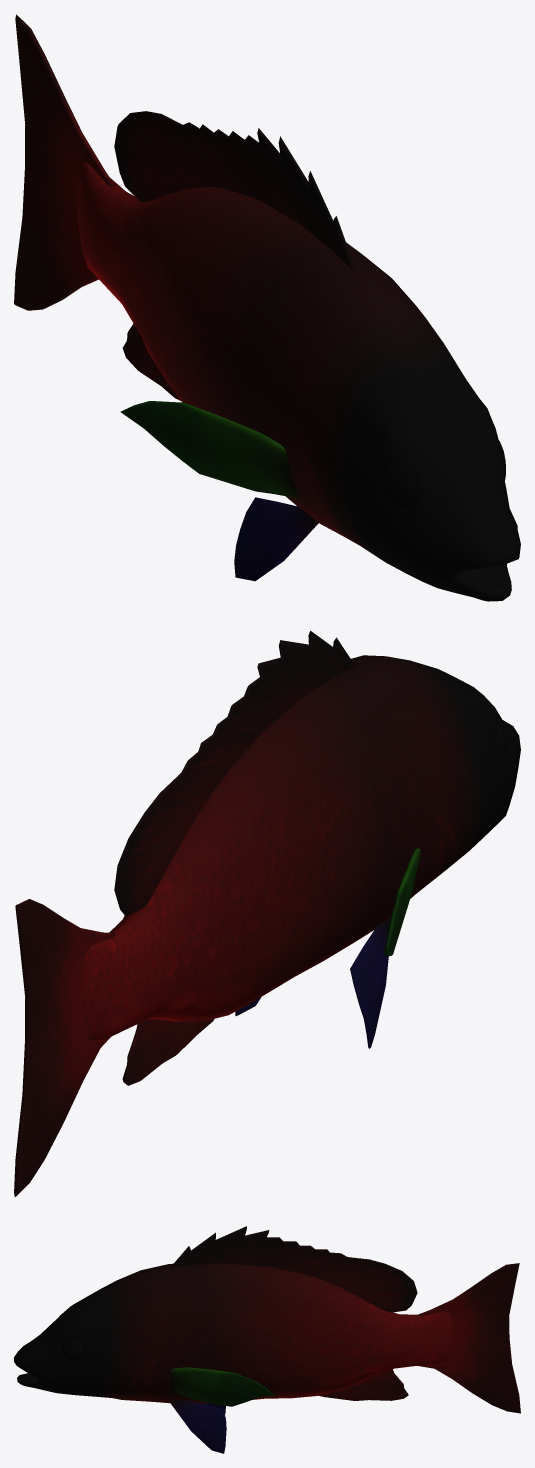
Rendered from fish-snapper.glb.
3 renders of one model, top to bottom at view 1: azimuth 30°, elevation 25°; view 2: azimuth 150°, elevation 25°; view 3: azimuth 270°, elevation 25°, orthographic. The views are drawn at different scales.
Visible parts, largest first — view 1: fish_vertColor_low; view 2: fish_vertColor_low; view 3: fish_vertColor_low.
Part boxes in pixels (bbox=[...]): fish_vertColor_low: bbox=[14, 14, 520, 601]; fish_vertColor_low: bbox=[14, 631, 520, 1196]; fish_vertColor_low: bbox=[14, 1226, 520, 1453].
Size of the model in its own units: 12.55 by 18.45 by 40.16.
1 material, 1 textured.
